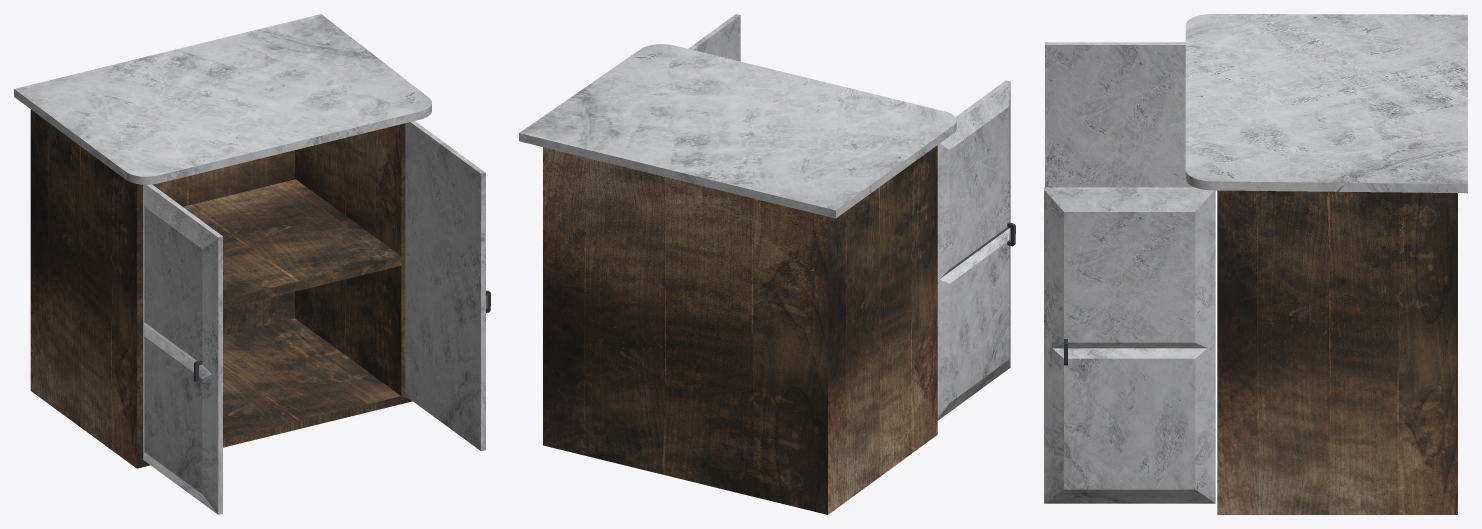
The model's file is ClosetSmall.fbx.
3 renders of one model, left to right at view 1: azimuth 30°, elevation 25°; view 2: azimuth 150°, elevation 25°; view 3: azimuth 270°, elevation 25°, orthographic. The views are drawn at different scales.
Parts seen in each view (by area): view 1: ClosetBody, LeftDoor, RightDoor; view 2: ClosetBody, RightDoor, LeftDoor; view 3: ClosetBody, LeftDoor, RightDoor.
Part boxes in pixels (bbox=[...]): ClosetBody: bbox=[14, 14, 431, 468]; LeftDoor: bbox=[405, 121, 490, 451]; RightDoor: bbox=[143, 184, 222, 514]; ClosetBody: bbox=[519, 44, 956, 514]; RightDoor: bbox=[937, 80, 1015, 420]; LeftDoor: bbox=[688, 14, 740, 61]; ClosetBody: bbox=[1185, 14, 1467, 514]; LeftDoor: bbox=[1044, 187, 1215, 503]; RightDoor: bbox=[1045, 42, 1193, 187].
Bounding box in the file's own units: 3.35 × 3.13 × 3.52.
